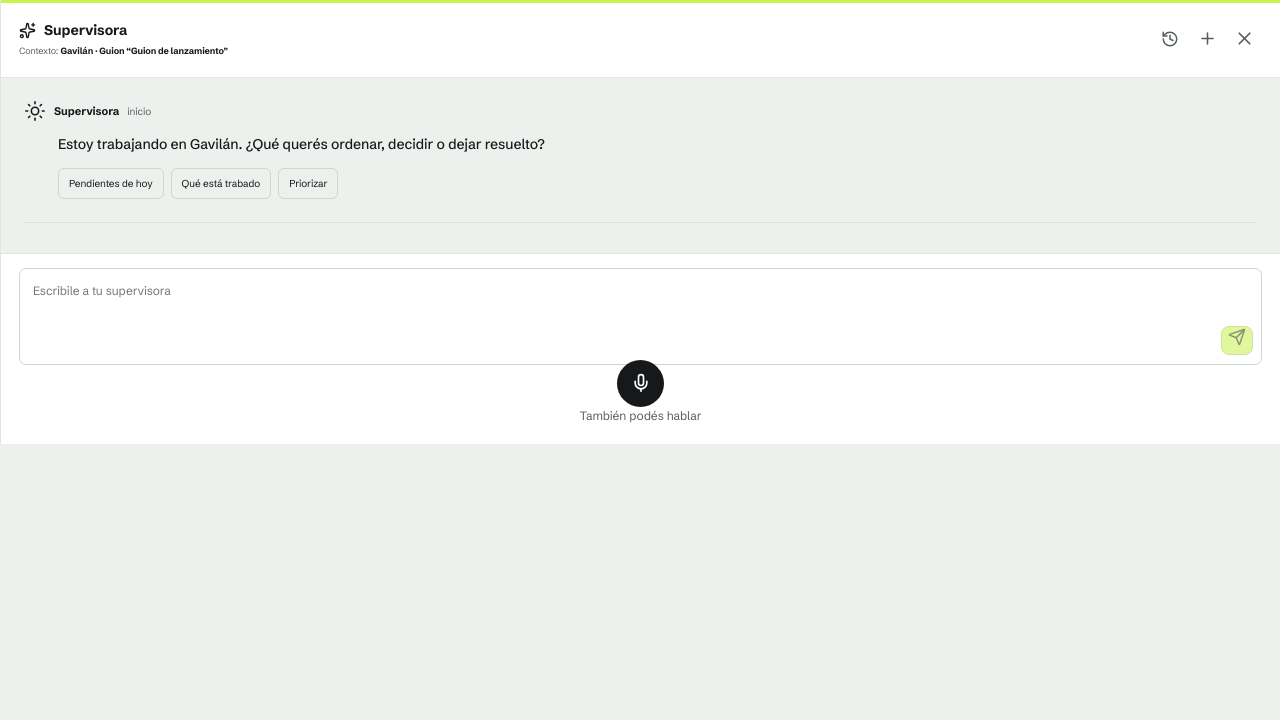
Scenario: AiDrawer chat contract › sends the exact open entity using the API context contract
This screenshot has width=1280, height=720.
In the text box with test id "ai-input": point(640, 313) [20, 269, 1261, 357], type "Pasalo al viernes."
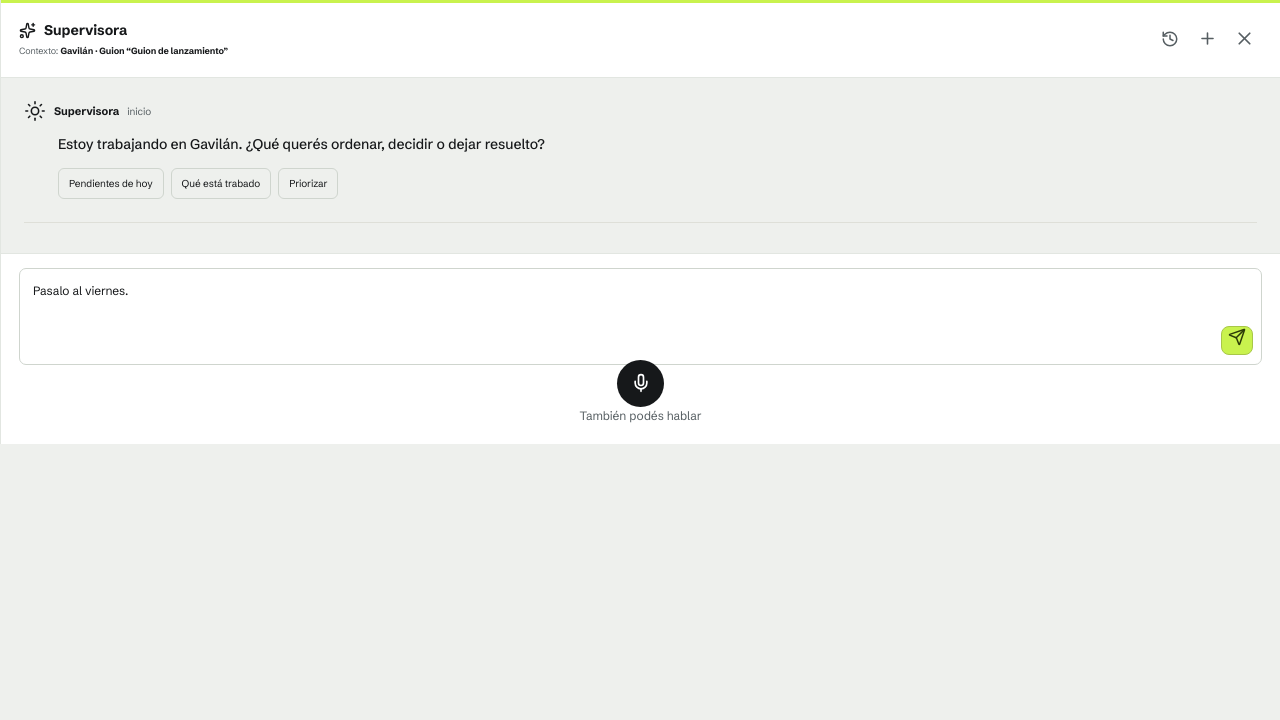
Click the button with test id "ai-send": point(1237, 341) [1221, 326, 1253, 355]
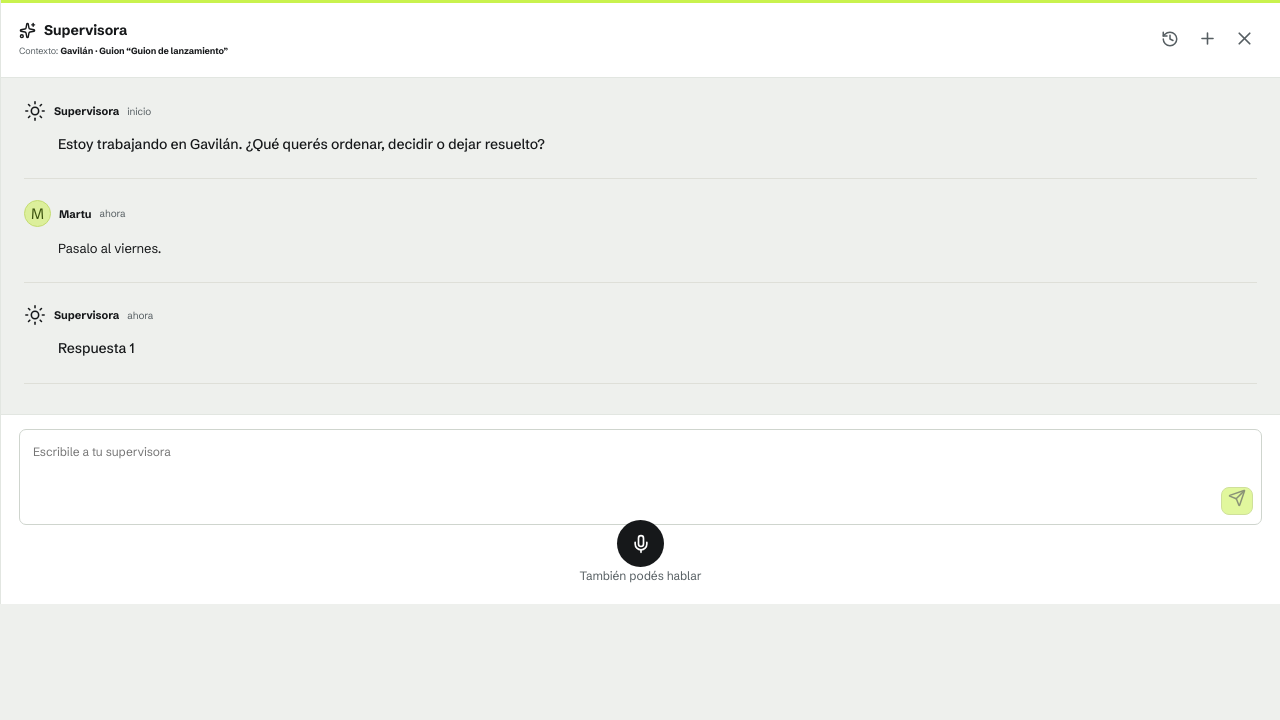
Check: the text "Respuesta 1" is shown, box [58, 339, 135, 357]
